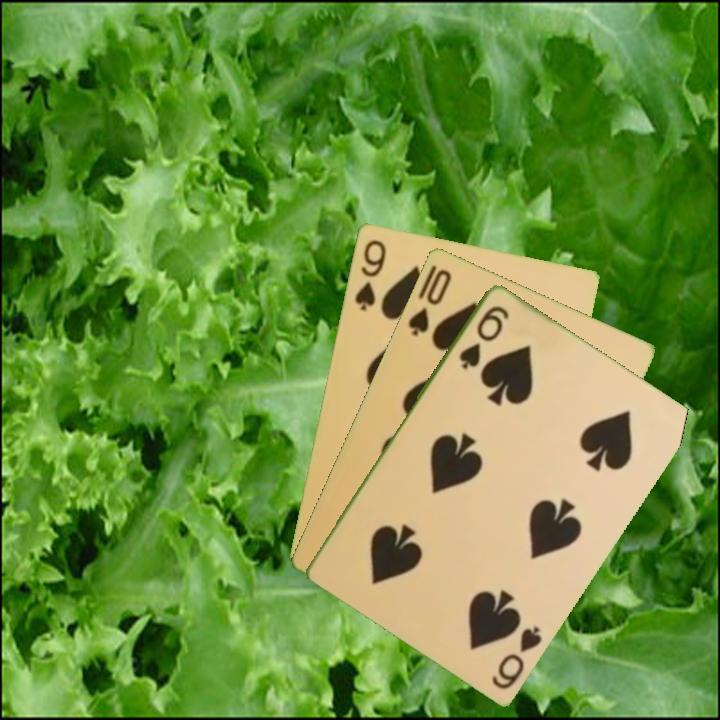10s: (404, 264, 454, 339)
6s: (487, 622, 545, 692), (455, 301, 512, 372)
9s: (350, 235, 389, 313)
